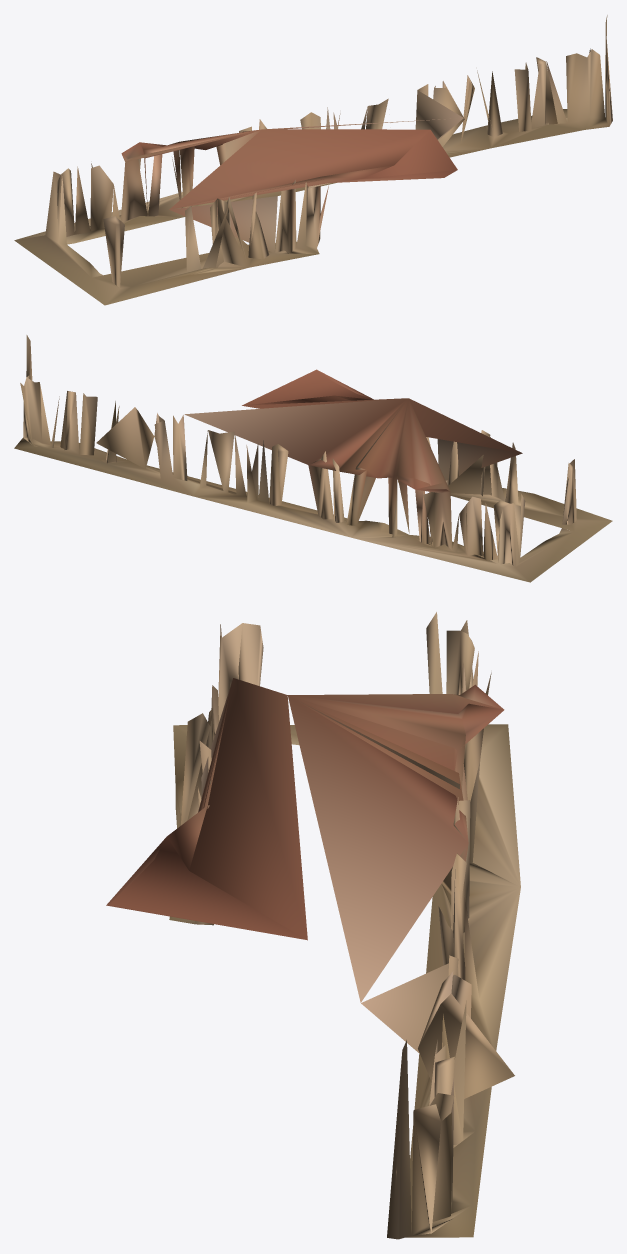
Rendered from corral_lejos.glb.
3 views of the same model, one above another, from view 1: azimuth 30°, elevation 25°; view 2: azimuth 150°, elevation 25°; view 3: azimuth 270°, elevation 25° (orthographic). The views are drawn at different scales.
Visible parts, largest first — view 1: corral_lejos; view 2: corral_lejos; view 3: corral_lejos.
Part boxes in pixels (x1=…): corral_lejos: x1=14, y1=15, x2=612, y2=305; corral_lejos: x1=14, y1=335, x2=612, y2=582; corral_lejos: x1=106, y1=612, x2=520, y2=1239.
Size of the model in its own units: 14.84 by 2.73 by 5.01.
